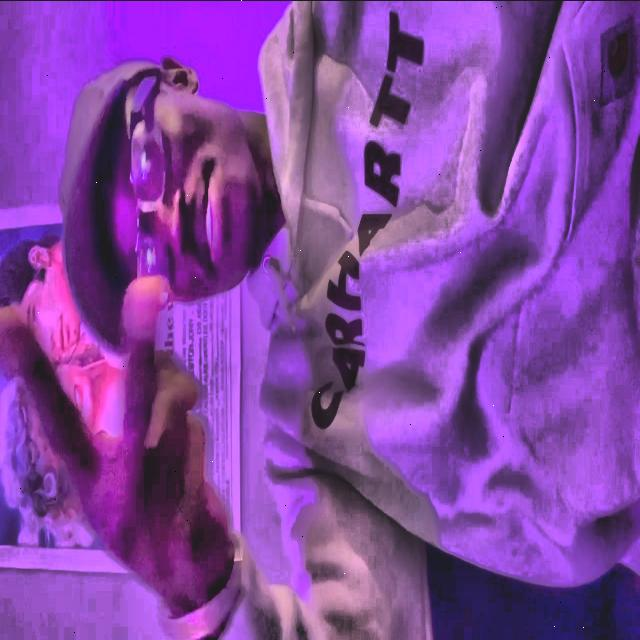not-gloved: (0, 277, 236, 615)
